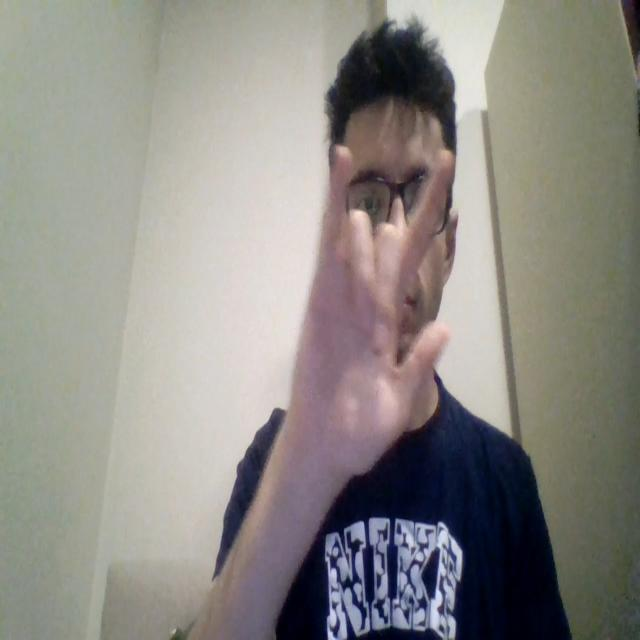iloveyou: (287, 141, 456, 480)
